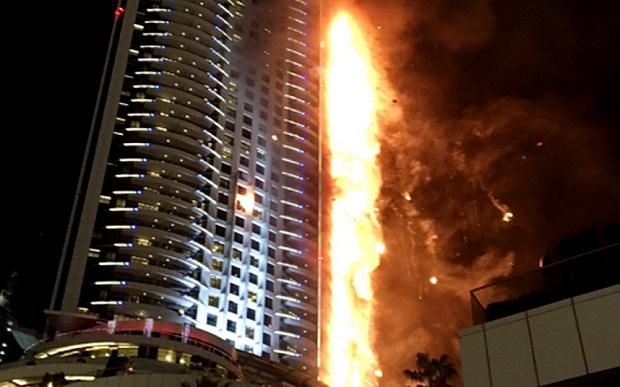fire: (329, 0, 386, 387)
